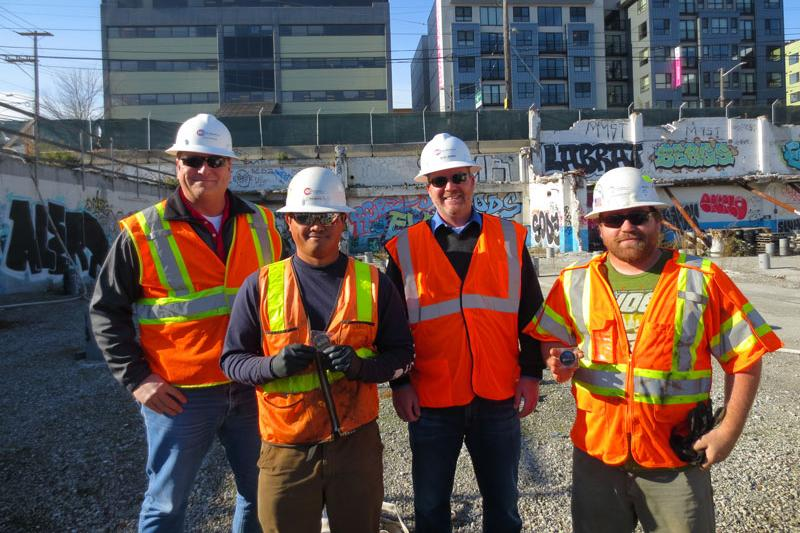helmet: (587, 169, 668, 221), (279, 168, 361, 217), (415, 135, 484, 188), (166, 115, 245, 160)
